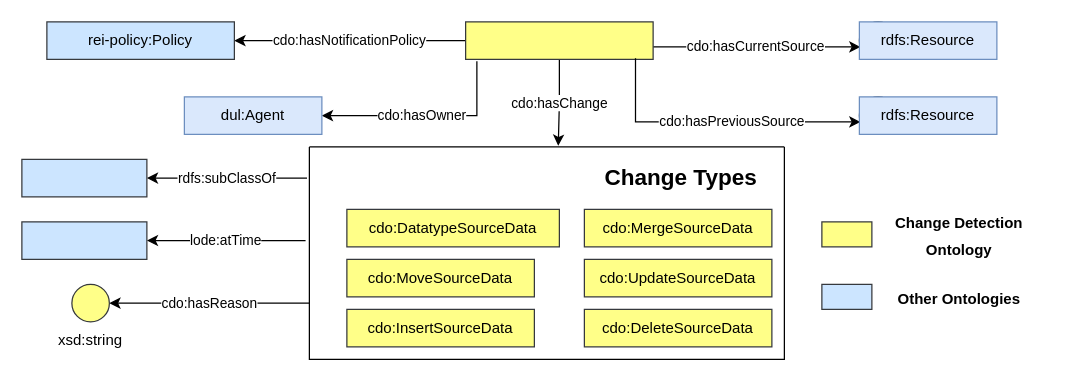
Image size: 1069x381. Some labels were removed from this diagram. The shapes that lost their labels are listed below. From the top down, each one's centre as x and y in pixels, then its label:
At (558,40): "cdo:ChangeLog".
At (84,177): "lode:Event".
At (84,240): "time:Instant".
